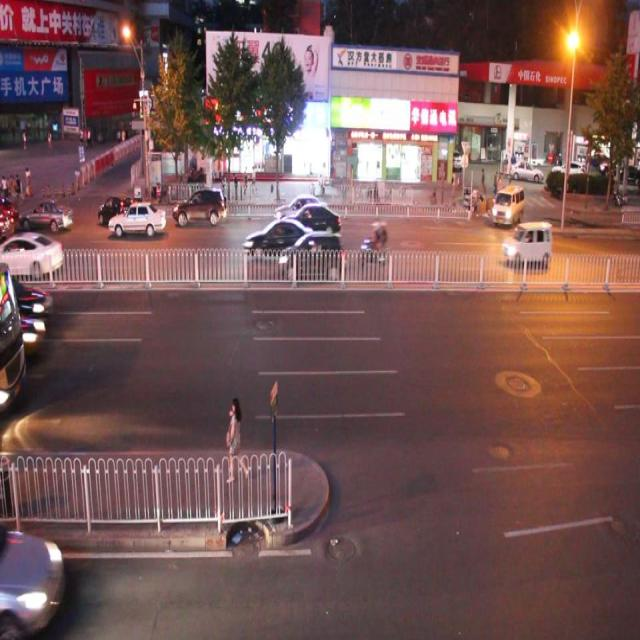car: (1, 520, 66, 640), (276, 228, 344, 276), (1, 228, 66, 278), (0, 289, 54, 343), (244, 217, 313, 258), (280, 196, 343, 238), (501, 218, 551, 266), (172, 185, 227, 227), (19, 196, 74, 235), (108, 200, 166, 236), (275, 192, 328, 228), (103, 185, 147, 225)
truck: (490, 183, 524, 225)
